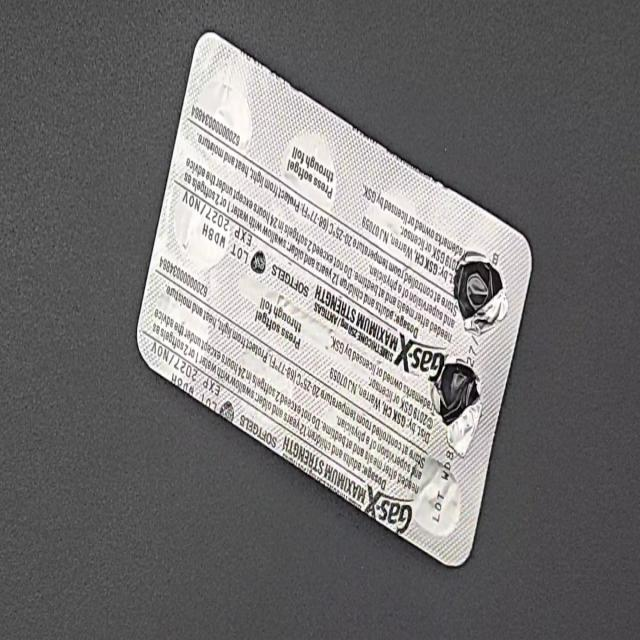defect: (429, 354, 483, 462), (451, 246, 510, 338)
